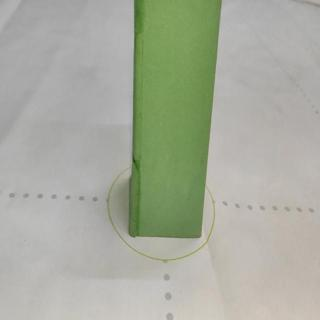greenbox: (129, 0, 207, 239)
